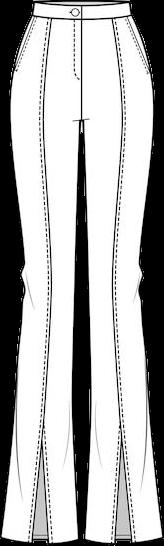Hemline: (0, 432, 80, 545), (84, 433, 163, 545)
Pantleg: (78, 0, 161, 543), (2, 0, 81, 545)
Waistline: (31, 11, 131, 22), (30, 0, 130, 9)
